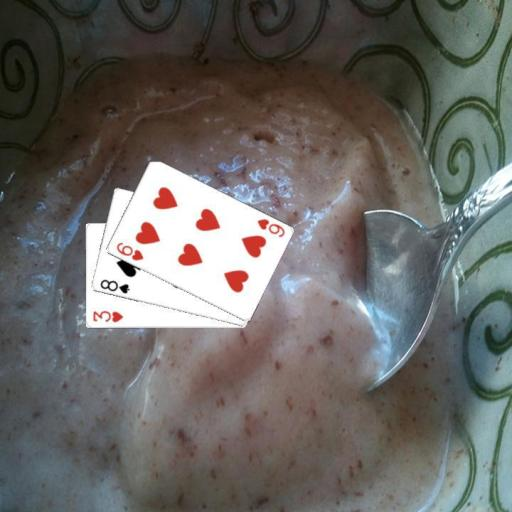3H: (90, 308, 125, 323)
6H: (254, 215, 286, 239), (113, 239, 144, 262)
8S: (97, 277, 131, 295)
